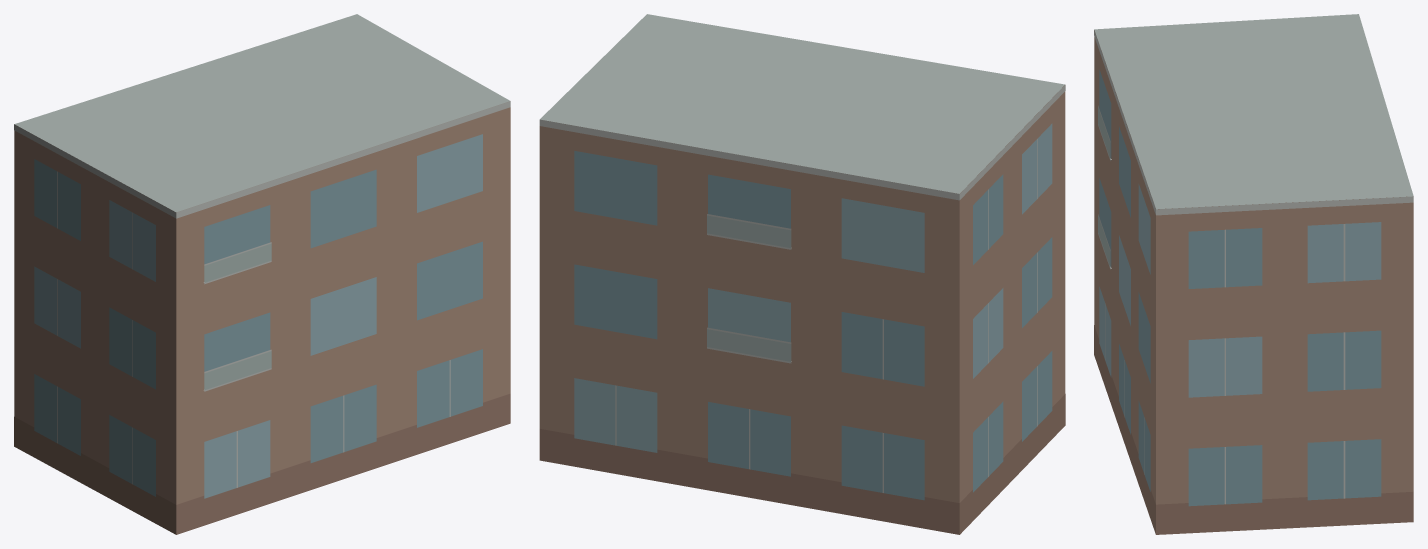
Rendered from survey-upis-32969492.glb.
3 renders of one model, left to right at view 1: azimuth 30°, elevation 25°; view 2: azimuth 150°, elevation 25°; view 3: azimuth 270°, elevation 25°, orthographic. The views are drawn at different scales.
Parts seen in each view (by area): view 1: survey-upis-32969492.tmp; view 2: survey-upis-32969492.tmp; view 3: survey-upis-32969492.tmp.
Boxes of the visible parts, bbox=[...] form: survey-upis-32969492.tmp: bbox=[14, 14, 510, 534]; survey-upis-32969492.tmp: bbox=[539, 14, 1065, 534]; survey-upis-32969492.tmp: bbox=[1094, 14, 1413, 534].
Bounding box in the file's own units: 16.47 × 12.8 × 11.39.
